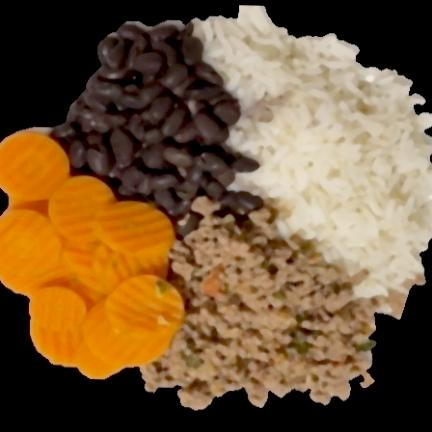beans: (54, 23, 262, 222)
carrot: (0, 130, 185, 378)
meat: (141, 196, 377, 409)
rice: (194, 5, 431, 312)
